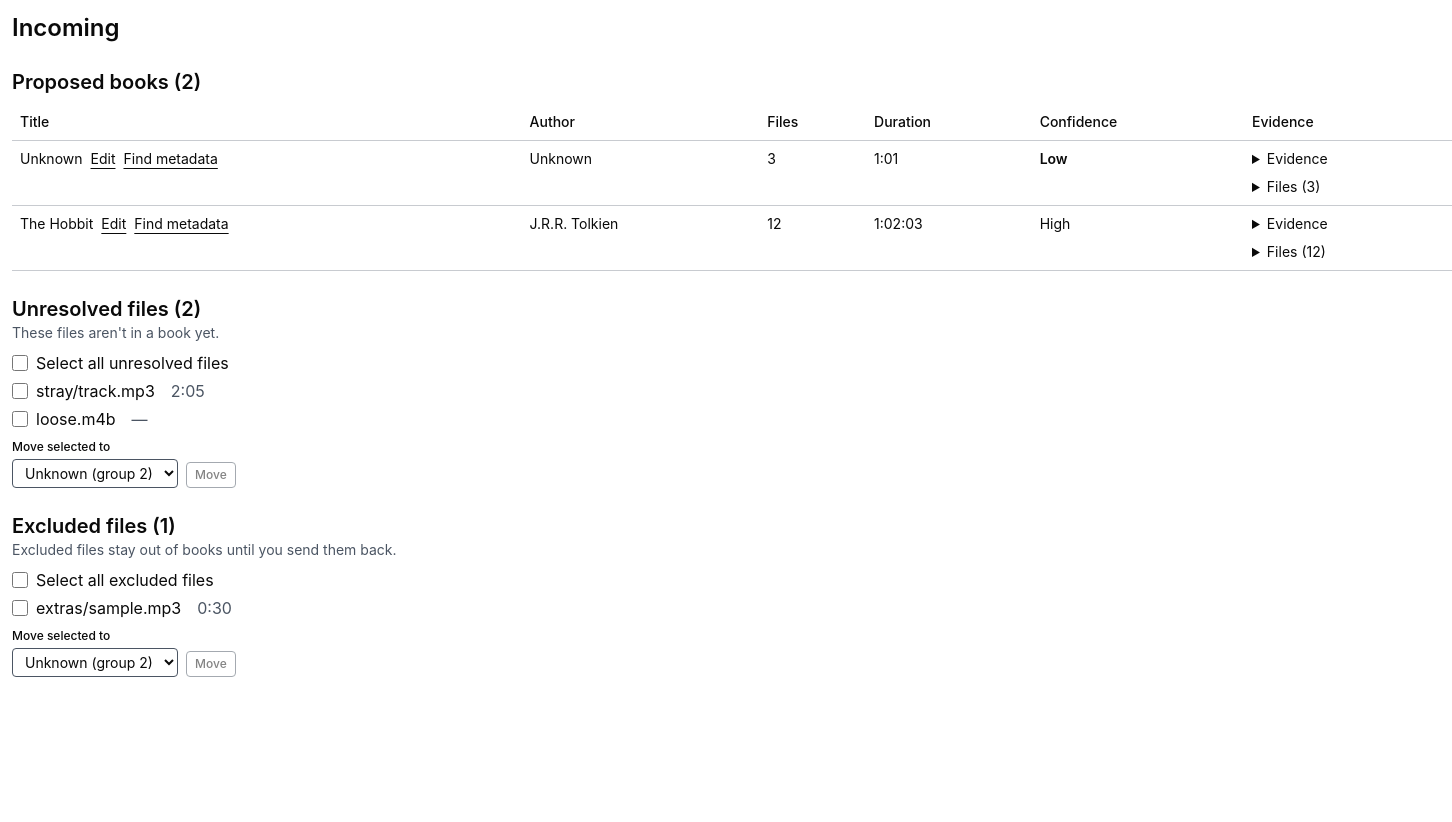
Test: IncomingPage › editing a title and author › edits only one row at a time
Click the button with aria-label "Edit The Hobbit": x=114, y=224 [101,214,126,234]
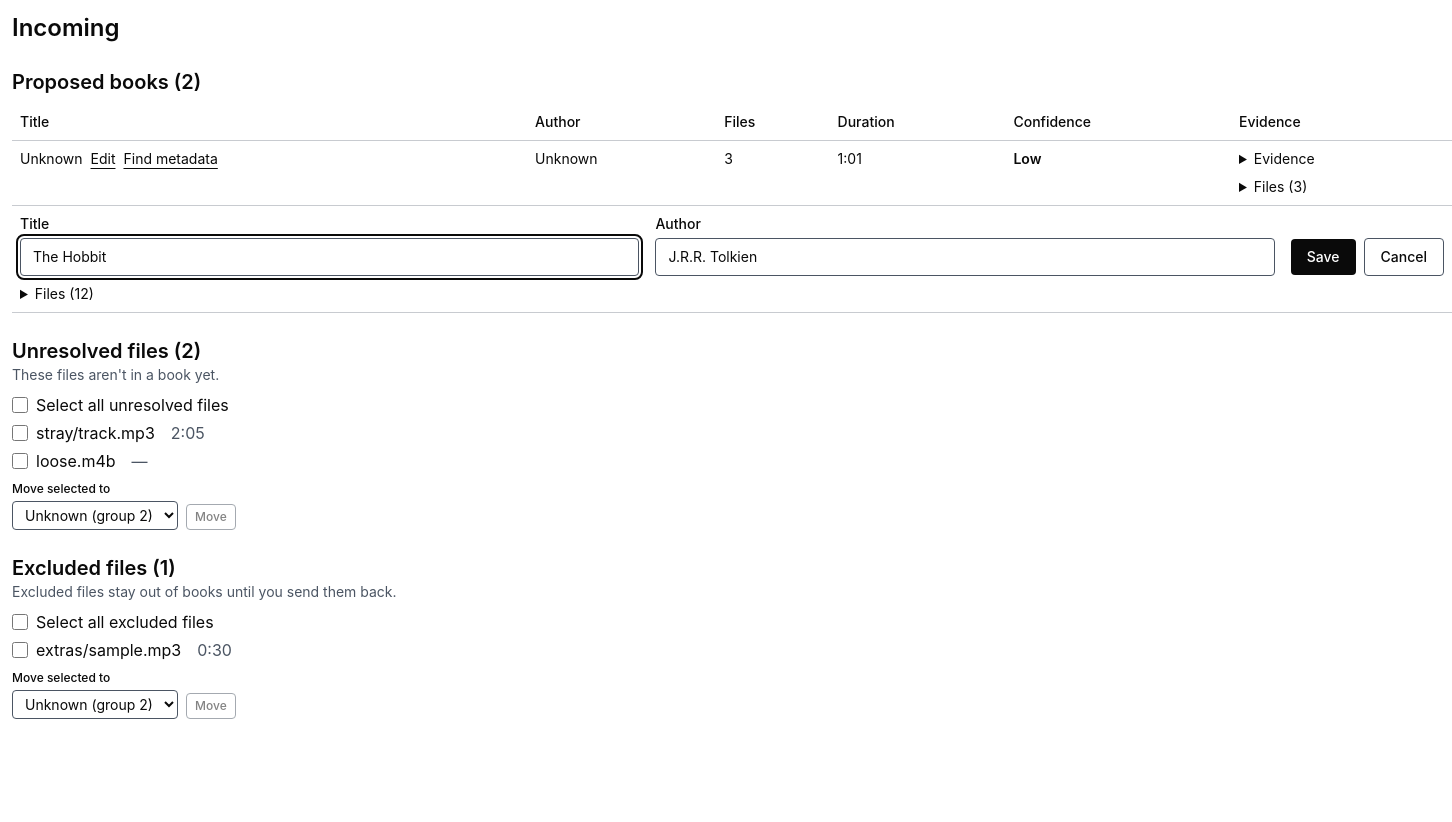
Click the button with aria-label "Edit Unknown (group 2)": x=103, y=159 [90,149,116,169]
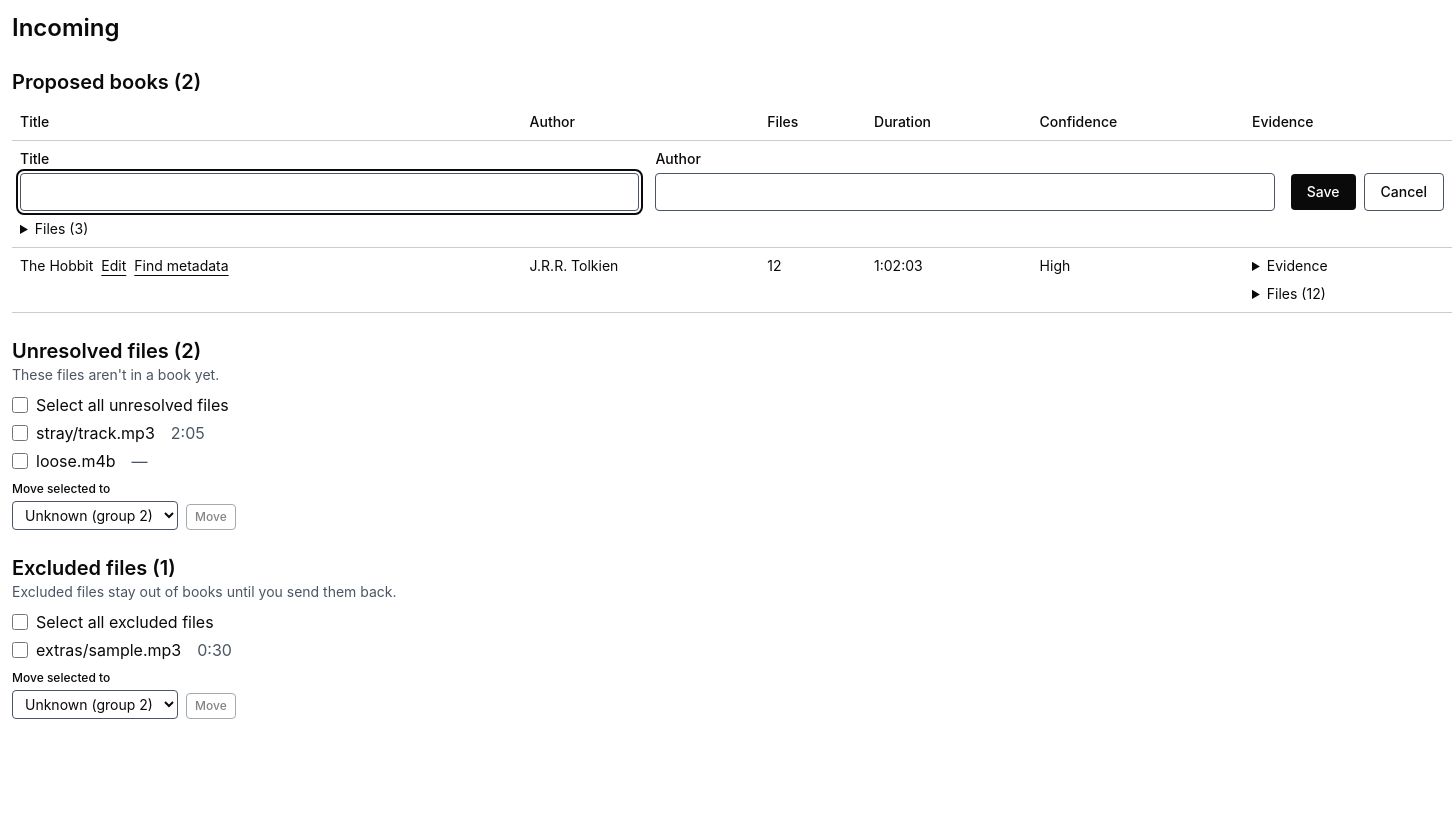
Expected: the number of fields labelled "Title" is 1, [20,173,639,211]
Expected: the field labelled "Title" is empty, [20,173,639,211]
Expected: the button with aria-label "Edit The Hobbit" is shown, [101,256,126,276]
